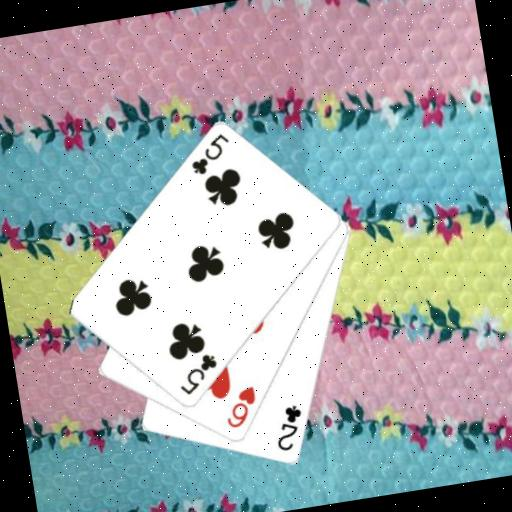2C: (268, 401, 308, 454)
5C: (172, 349, 223, 399), (183, 129, 235, 178)
6H: (218, 382, 261, 431)
